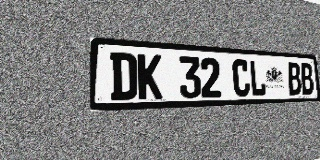2: (200, 57, 221, 98)
3: (179, 56, 201, 98)
B: (287, 62, 302, 95), (300, 63, 314, 95)
C: (232, 59, 250, 97)
D: (110, 52, 137, 100)
K: (137, 54, 163, 100)
L: (249, 60, 266, 96)
